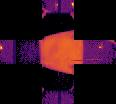earth: (39, 29, 83, 75)
